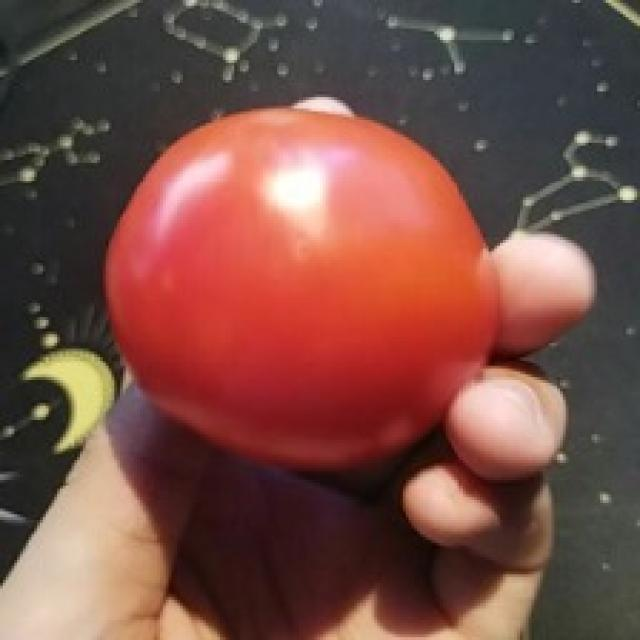Fresh Tomato: (88, 101, 496, 497)
